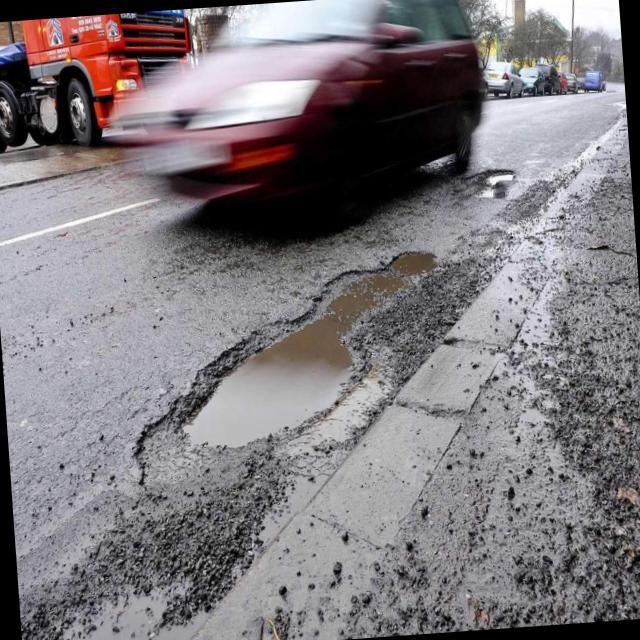Pothole: (100, 248, 468, 460), (479, 163, 520, 206)
